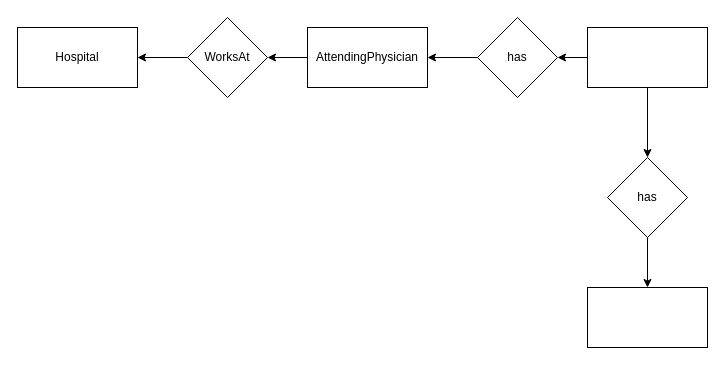
Image size: 725x365. Some labels were removed from this diagram. The centre of each missing label's shape, as x and y in pixels:
Condition: the point at 647,317
Patient: the point at 647,57
